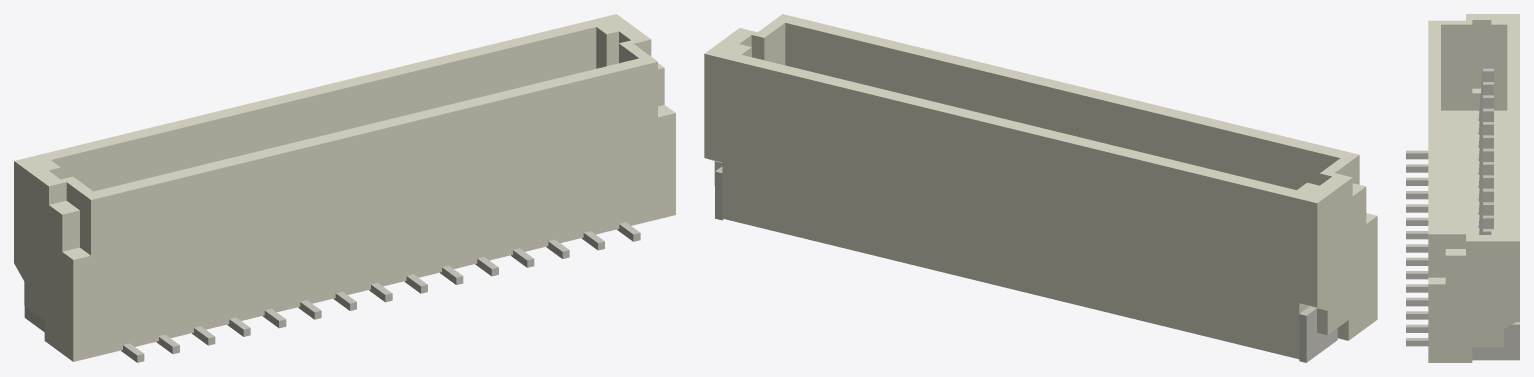
Rendered from kc-jst_sh_bm15b-srss-tb_1x15-1mp_p1.00mm_vertical.glb.
3 views of the same model, side by side, from view 1: azimuth 30°, elevation 25°; view 2: azimuth 150°, elevation 25°; view 3: azimuth 270°, elevation 25° (orthographic). The views are drawn at different scales.
Parts seen in each view (by area): view 1: 0.75_0.75_0.6666666666666666_0, 0.6666666666666666_0.6666666666666666_0.5833333333333334_0.8; view 2: 0.75_0.75_0.6666666666666666_0, 0.6666666666666666_0.6666666666666666_0.5833333333333334_0.8; view 3: 0.75_0.75_0.6666666666666666_0, 0.6666666666666666_0.6666666666666666_0.5833333333333334_0.8.
Boxes of the visible parts, <box> form: 0.75_0.75_0.6666666666666666_0: <box>14,14,675,361</box>; 0.6666666666666666_0.6666666666666666_0.5833333333333334_0.8: <box>24,222,640,362</box>; 0.75_0.75_0.6666666666666666_0: <box>704,14,1377,359</box>; 0.6666666666666666_0.6666666666666666_0.5833333333333334_0.8: <box>715,166,1337,362</box>; 0.75_0.75_0.6666666666666666_0: <box>1428,14,1519,362</box>; 0.6666666666666666_0.6666666666666666_0.5833333333333334_0.8: <box>1406,68,1519,360</box>.
Size of the model in its own units: 1.7 by 0.432 by 0.36.
